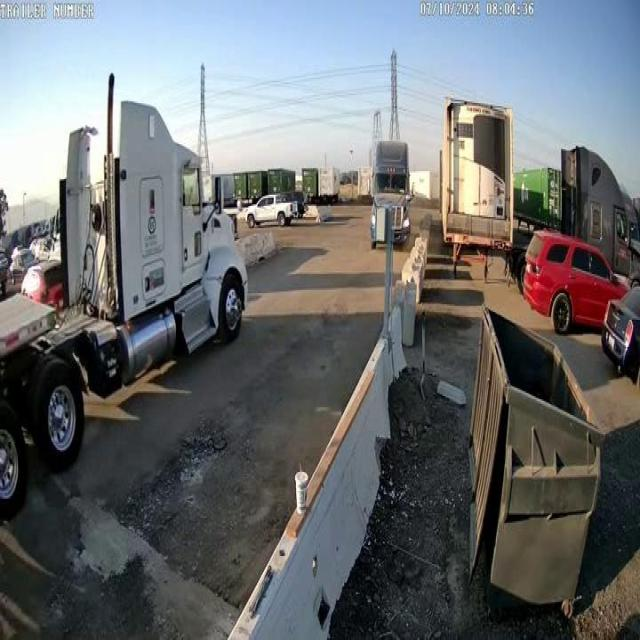BOBTAIL: (1, 71, 249, 520), (369, 140, 415, 252)
